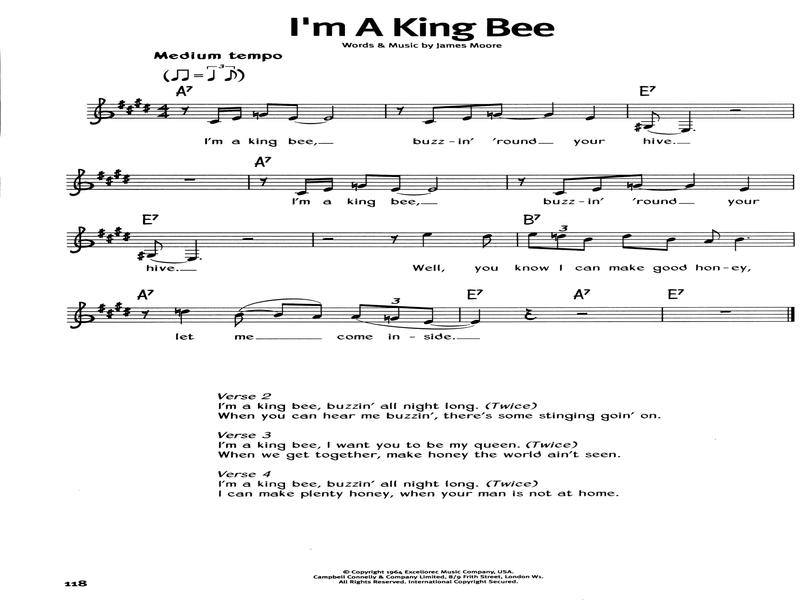B: (324, 105, 336, 122), (428, 176, 439, 192)
C: (555, 177, 571, 196), (462, 103, 478, 122), (644, 110, 660, 129), (351, 303, 368, 320), (148, 240, 163, 259), (704, 228, 721, 244), (592, 175, 607, 192), (425, 106, 439, 124), (660, 237, 676, 252), (552, 234, 566, 251), (578, 237, 593, 252), (391, 305, 405, 321), (274, 302, 288, 317), (359, 173, 373, 188), (621, 233, 633, 250), (423, 307, 434, 325), (527, 232, 538, 250), (391, 174, 402, 192), (288, 103, 299, 121), (260, 102, 273, 117), (312, 303, 323, 320), (233, 312, 245, 327), (481, 233, 493, 248), (633, 173, 643, 189), (494, 103, 504, 117)
CS: (68, 301, 96, 330), (68, 168, 95, 197), (89, 96, 115, 126), (69, 225, 95, 254)
N: (681, 110, 692, 133), (188, 239, 198, 261), (734, 236, 746, 252), (421, 231, 433, 247), (180, 309, 191, 326), (740, 176, 751, 192), (470, 309, 481, 325), (686, 172, 696, 189), (545, 101, 555, 117), (586, 106, 596, 121)
P: (747, 236, 751, 240), (693, 129, 697, 132), (199, 258, 202, 261)
SB: (724, 109, 745, 112), (237, 238, 257, 241), (574, 313, 591, 316), (320, 238, 336, 241)
SC: (298, 177, 312, 195), (211, 107, 224, 124), (323, 177, 334, 193), (232, 106, 243, 121)
SOS: (122, 173, 131, 185), (634, 121, 642, 134), (97, 303, 106, 314), (122, 307, 131, 318), (97, 170, 105, 182), (105, 175, 113, 187), (114, 226, 122, 238), (106, 308, 114, 320), (134, 97, 142, 108), (143, 103, 151, 114), (97, 228, 105, 239), (123, 231, 131, 242), (137, 250, 145, 261), (118, 99, 126, 109), (126, 105, 134, 115), (106, 234, 114, 244), (115, 301, 122, 312), (114, 169, 121, 179)
SR: (181, 177, 199, 181), (715, 310, 735, 313)
